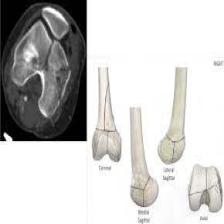intra-articular-fracture: (90, 62, 224, 223), (1, 2, 86, 139)
